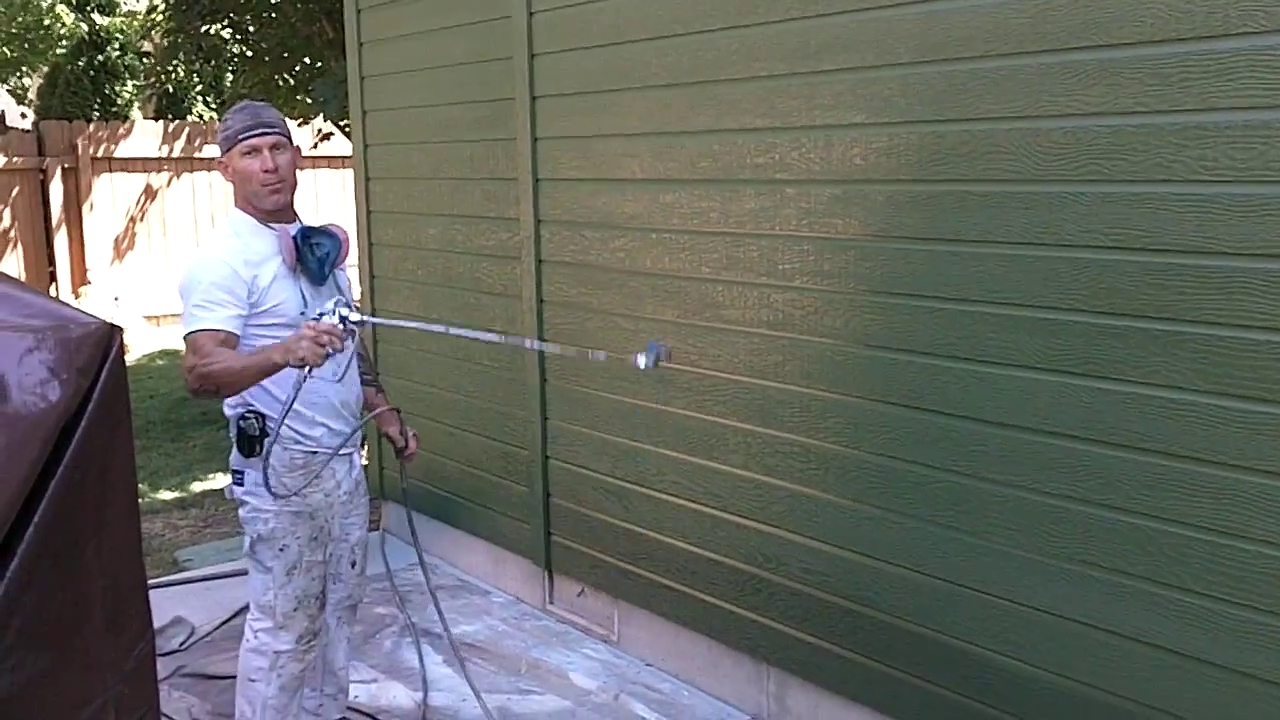person: (183, 99, 419, 720)
